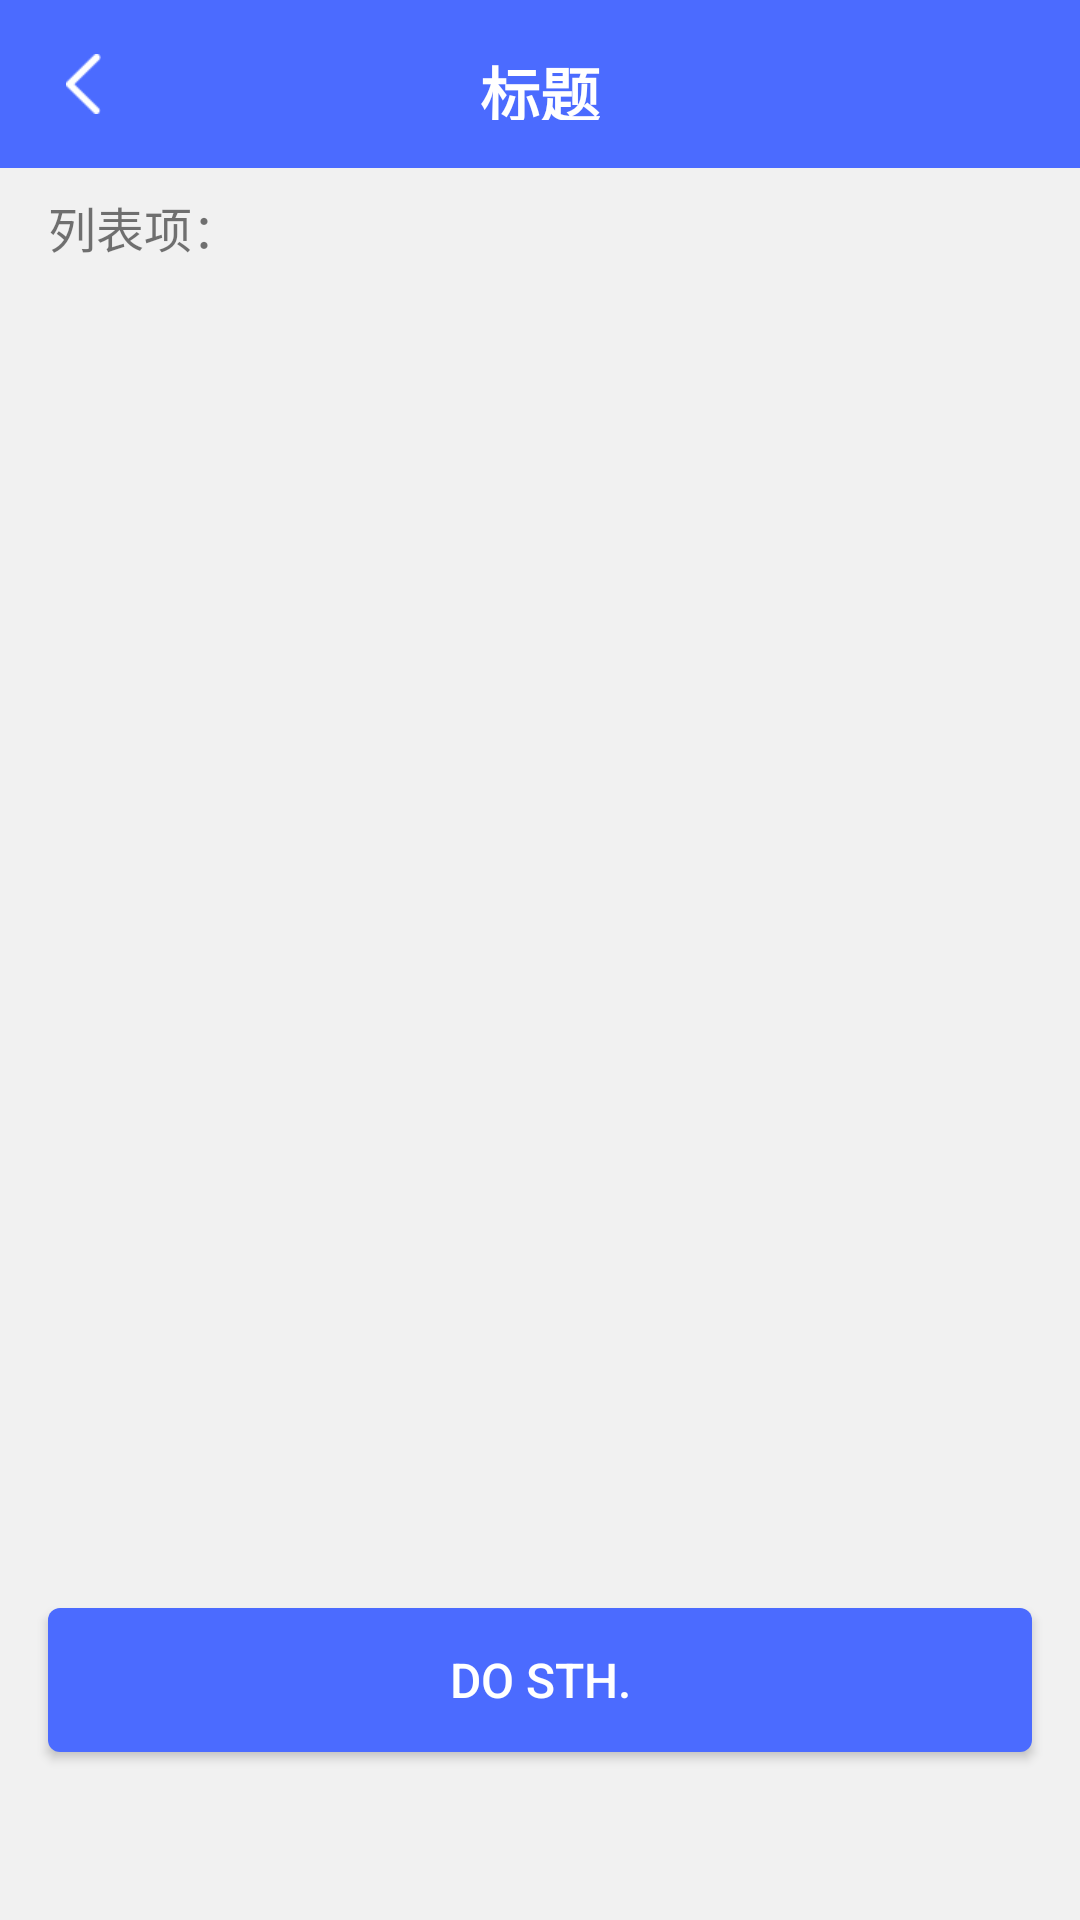

Point at icon controls on the screen. Image size 1080px×1920px, points as (x,y).
back: (83,84)
